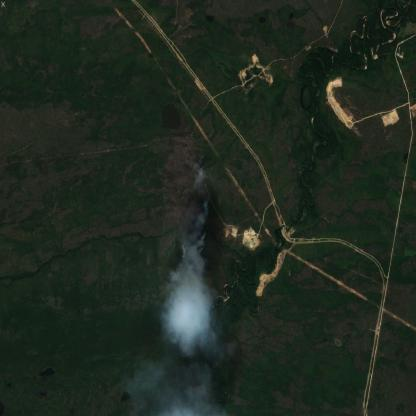fire: (174, 147, 213, 264)
